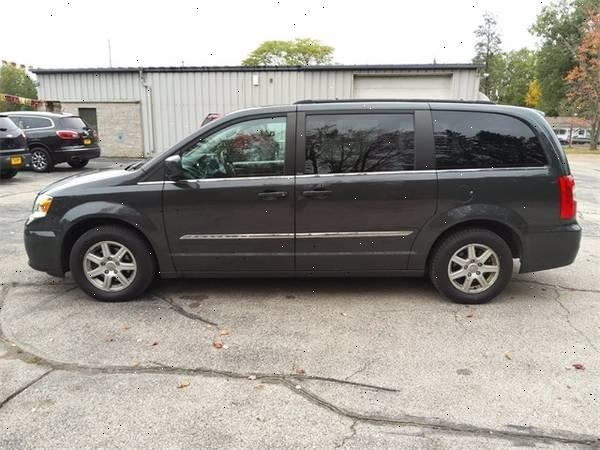Front_Bumper: (21, 216, 61, 279)
Front_Fender: (39, 164, 177, 281)
Front_Left_Door: (162, 176, 295, 275)
Front_Left_Window: (168, 112, 298, 181)
Left_Headlight: (27, 193, 52, 222)
Left_Taillight: (559, 173, 579, 218)
Rear_Bumper: (518, 215, 582, 270)
Rear_Fender: (409, 109, 563, 274)
Rear_Left_Door: (296, 170, 440, 276)
Rear_Left_Window: (296, 110, 438, 175)
Roof: (136, 101, 568, 177)
Wheel: (67, 223, 152, 300), (432, 228, 516, 303)
